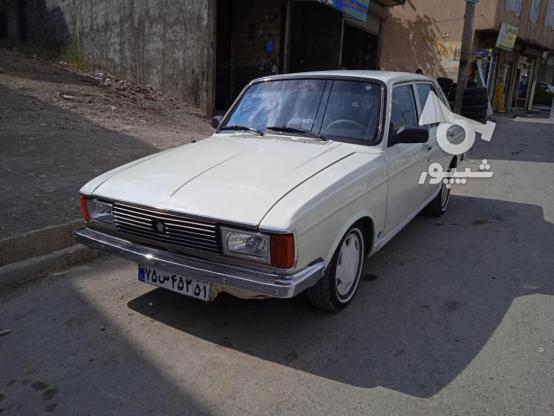car: (139, 264, 211, 305)
